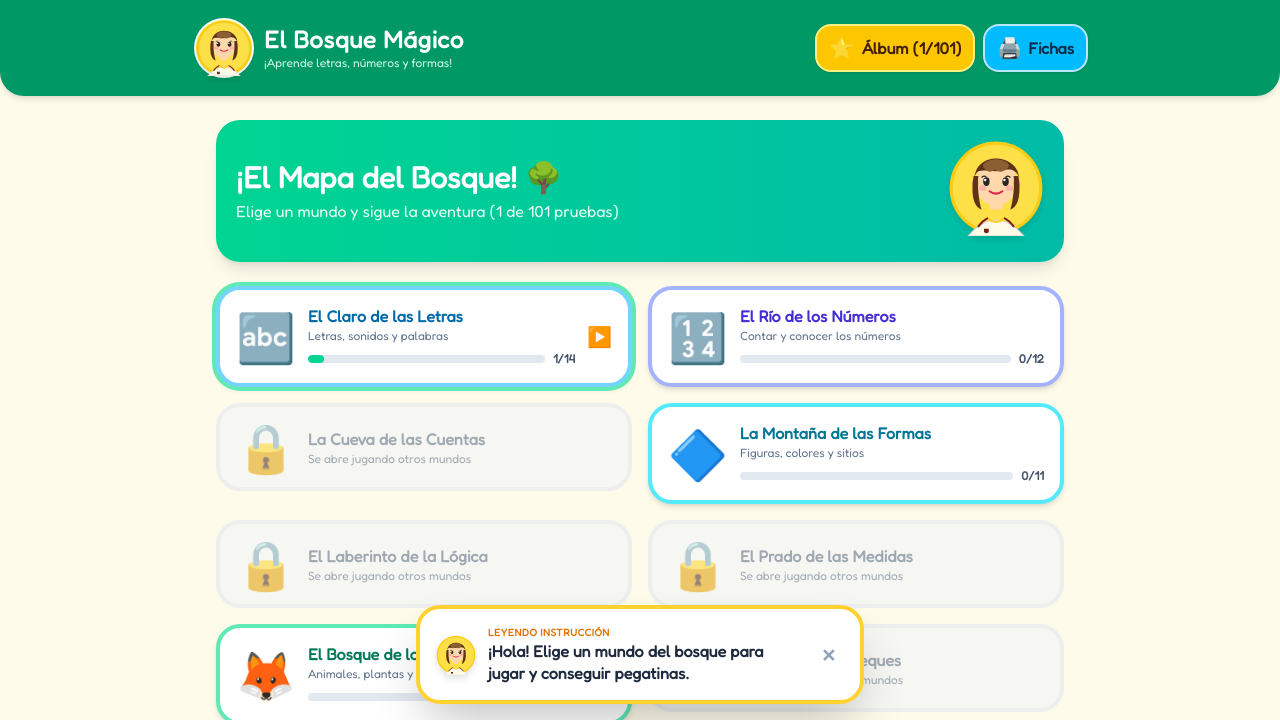
Test case: App › el álbum solo enseña las pegatinas ganadas
This screenshot has width=1280, height=720.
Click the button "🌟 Álbum (1/101)" at (895, 48), box [815,24,975,72]
(page scrolled)
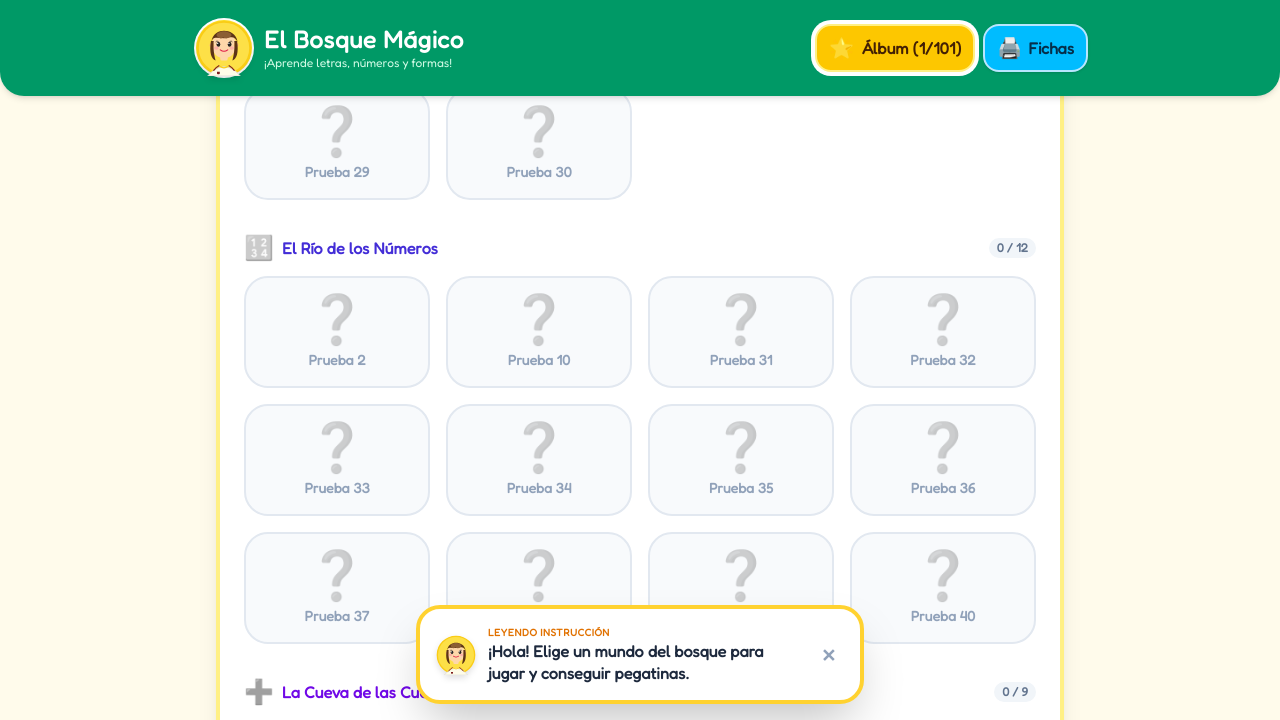
Result: the text "Prueba 2" is shown at [308,350,366,370]
